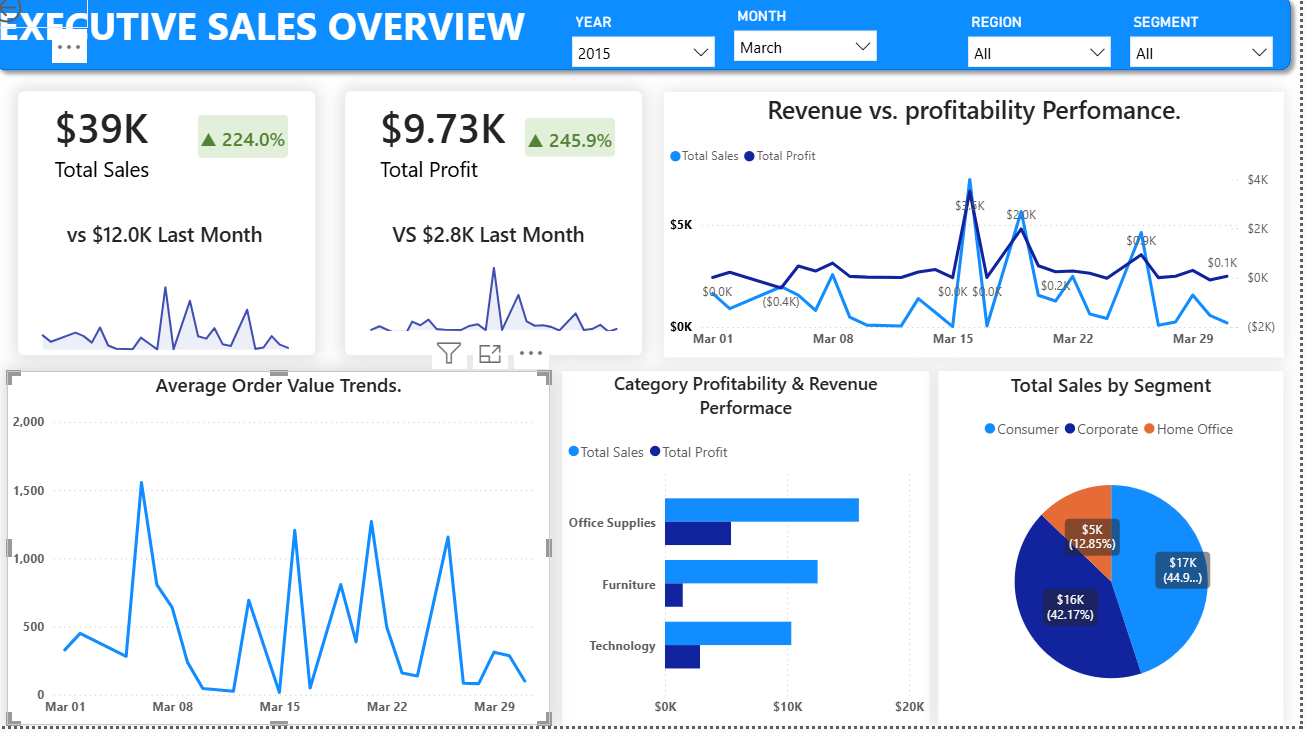

The dashboard page shown, as its layout file describes it:
{"tool":"powerbi","page":{"name":"Page 1","canvas":[1280,720],"ordinal":0},"visuals":[{"type":"shape","box":[0,0,1280,90],"z":0},{"type":"shape","box":[30.3,101.5,290.7,258.9],"z":0,"group":"g2"},{"type":"shape","box":[349.8,101.5,290.7,258.9],"z":0},{"type":"slicer","fields":{"Values":["Dim Geography City.Region"]},"box":[946.7,20,159,60.6],"z":1000},{"type":"cardVisual","fields":{"Data":["_Measures.Total Profit"]},"box":[366.4,115.1,259,233.3],"z":1000},{"type":"cardVisual","fields":{"Data":["_Measures.Total Sales"]},"box":[48.6,115.5,259,233.3],"z":1000,"group":"g2"},{"type":"slicer","fields":{"Values":["Dim Customer.Segment"]},"box":[1105,20,159,60.6],"z":2000},{"type":"cardVisual","fields":{"Data":["_Measures.Sales Growth"]},"box":[193.4,112.9,112.1,66.6],"z":2000,"group":"g2"},{"type":"cardVisual","fields":{"Data":["_Measures.Profit Growth %"]},"box":[513.3,115.1,112.1,62.1],"z":2000},{"type":"slicer","fields":{"Values":["Dim Date.month_name"]},"box":[718.3,15,158.3,70],"z":3000},{"type":"areaChart","fields":{"Category":["Dim Date.date"],"Y":["_Measures.Total Profit"]},"box":[364.9,265,259,70.8],"z":3000},{"type":"areaChart","fields":{"Category":["Dim Date.date"],"Y":["_Measures.Total Sales"]},"box":[45.5,283.8,259,70.8],"z":3000,"group":"g2"},{"type":"slicer","fields":{"Values":["Dim Date.year"]},"box":[561.7,20,158.3,70],"z":4000},{"type":"group","id":"g1","title":"Group 1","box":[30.3,101.5,290.7,258.9],"z":5000},{"type":"group","id":"g2","title":"Group 2","box":[30.3,101.5,290.7,258.9],"z":5001,"group":"g1"},{"type":"lineChart","title":"Revenue vs. profitability Perfomance.","fields":{"Category":["Dim Date.date"],"Y":["_Measures.Total Sales"],"Y2":["_Measures.Total Profit"]},"box":[660.2,103,604.2,258.9],"z":5001},{"type":"clusteredBarChart","title":"Category Profitability & Revenue Performace","fields":{"Category":["Dim Product.Category"],"Y":["_Measures.Total Sales","_Measures.Total Profit"]},"box":[561.2,374.1,357.9,345.4],"z":5002},{"type":"pieChart","fields":{"Category":["Dim Customer.Segment"],"Y":["_Measures.Total Sales"]},"box":[927.8,373.6,336,345.4],"z":5003},{"type":"lineChart","title":"Average Order Value Trends.","fields":{"Category":["Dim Date.date"],"Y":["_Measures.Average Order Value"]},"box":[20.4,373.6,529.1,345.4],"z":5004},{"type":"actionButton","box":[0,0,100,40],"z":5005}]}

Visuals, with their boxes in screenshot pixels (x1, y1, x2, y2), scaled from the page's 1280x720 canvas onto the 1306x733 screenshot:
shape: [x1=0, y1=0, x2=1305, y2=92]
shape: [x1=31, y1=103, x2=328, y2=367]
shape: [x1=357, y1=103, x2=654, y2=367]
slicer - Dim Geography City.Region: [x1=966, y1=20, x2=1128, y2=82]
cardVisual - _Measures.Total Profit: [x1=374, y1=117, x2=638, y2=355]
cardVisual - _Measures.Total Sales: [x1=50, y1=118, x2=314, y2=355]
slicer - Dim Customer.Segment: [x1=1127, y1=20, x2=1290, y2=82]
cardVisual - _Measures.Sales Growth: [x1=197, y1=115, x2=312, y2=183]
cardVisual - _Measures.Profit Growth %: [x1=524, y1=117, x2=638, y2=180]
slicer - Dim Date.month_name: [x1=733, y1=15, x2=894, y2=87]
areaChart - Dim Date.date x _Measures.Total Profit: [x1=372, y1=270, x2=637, y2=342]
areaChart - Dim Date.date x _Measures.Total Sales: [x1=46, y1=289, x2=311, y2=361]
slicer - Dim Date.year: [x1=573, y1=20, x2=735, y2=92]
"Group 1" group: [x1=31, y1=103, x2=328, y2=367]
"Group 2" group: [x1=31, y1=103, x2=328, y2=367]
"Revenue vs. profitability Perfomance." lineChart: [x1=674, y1=105, x2=1290, y2=368]
"Category Profitability & Revenue Performace" clusteredBarChart: [x1=573, y1=381, x2=938, y2=732]
pieChart - Dim Customer.Segment x _Measures.Total Sales: [x1=947, y1=380, x2=1289, y2=732]
"Average Order Value Trends." lineChart: [x1=21, y1=380, x2=561, y2=732]
actionButton: [x1=0, y1=0, x2=102, y2=41]
